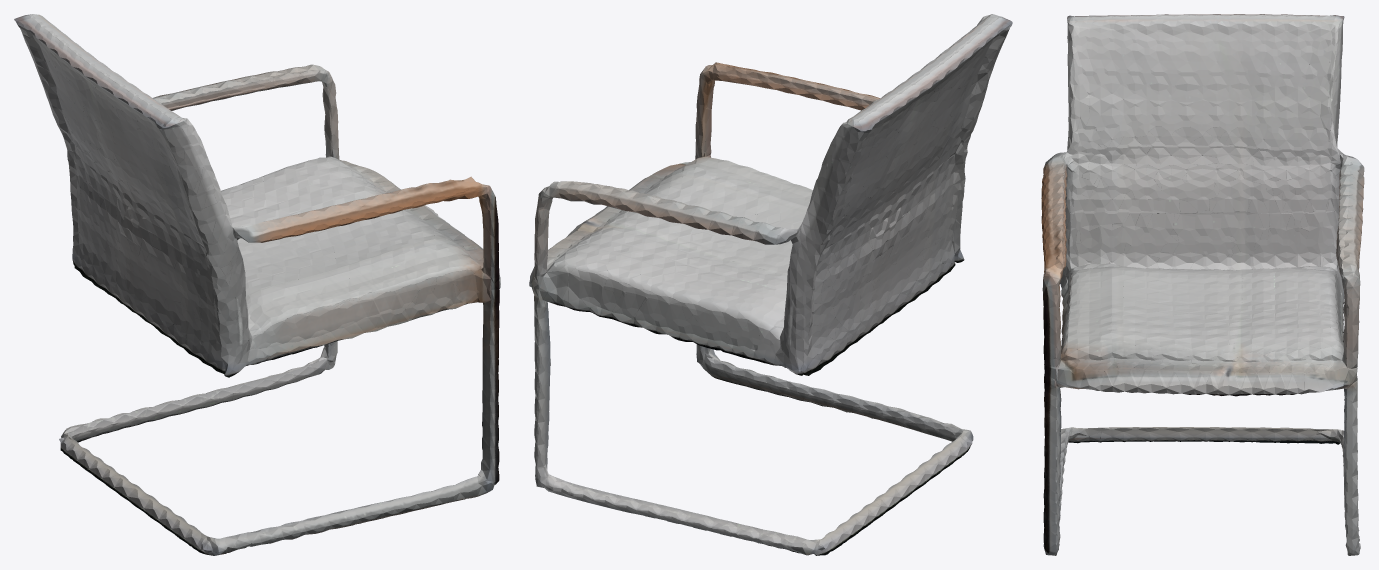
File: elem_115_131_206_213_0_8.obj
The picture shows the model from 3 angles, left to right: view 1: azimuth 30°, elevation 25°; view 2: azimuth 150°, elevation 25°; view 3: azimuth 270°, elevation 25°; orthographic projection. The views are drawn at different scales.
Size of the model in its own units: 0.593 by 0.7034 by 0.5015.
Materials: 1 (1 with a texture image).
